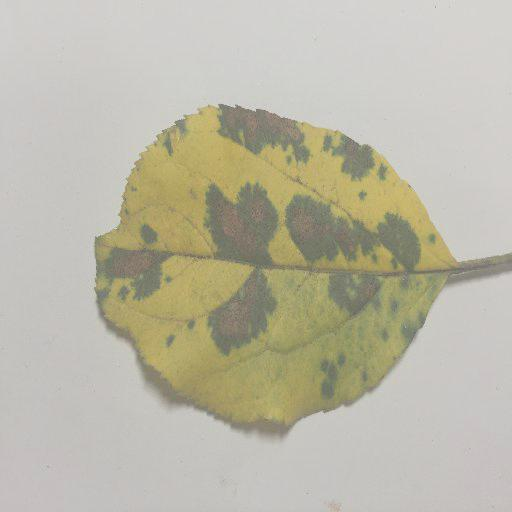Brown_Spot: (295, 204, 375, 257), (214, 101, 298, 145), (220, 277, 269, 339), (223, 200, 270, 258), (100, 246, 166, 287), (342, 138, 378, 173), (339, 284, 378, 301)
